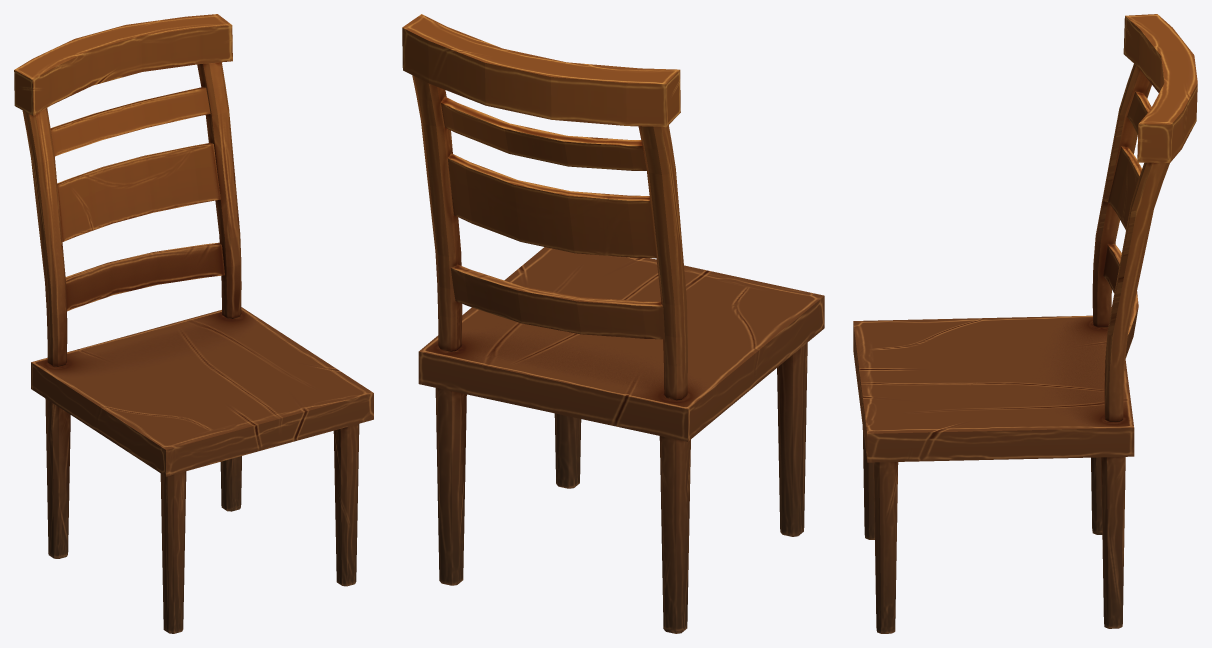
File: Cabinet Updated 1.fbx
3 views of the same model, side by side, from view 1: azimuth 30°, elevation 25°; view 2: azimuth 150°, elevation 25°; view 3: azimuth 270°, elevation 25° (orthographic). The views are drawn at different scales.
Parts seen in each view (by area): view 1: chair_low; view 2: chair_low; view 3: chair_low.
Boxes of the visible parts, bbox=[...] form: chair_low: bbox=[14, 14, 373, 633]; chair_low: bbox=[402, 14, 824, 633]; chair_low: bbox=[853, 14, 1197, 633].
Bounding box in the file's own units: 1.99 × 3.96 × 2.44.
